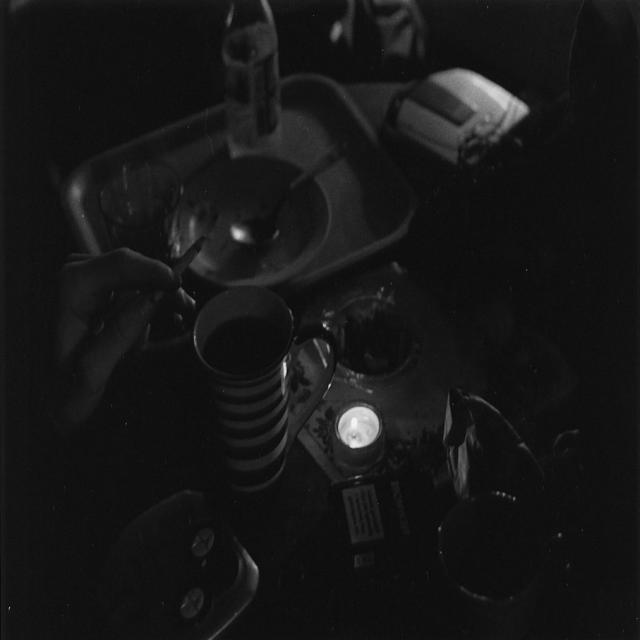Bottle: (226, 0, 297, 180)
Cup: (191, 272, 312, 482)
People: (0, 233, 176, 480)
Table: (17, 77, 639, 640)
